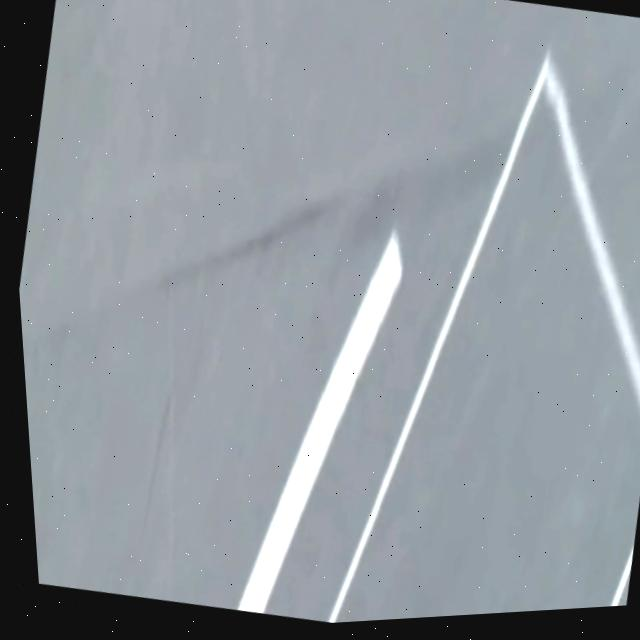center: (239, 231, 401, 614)
